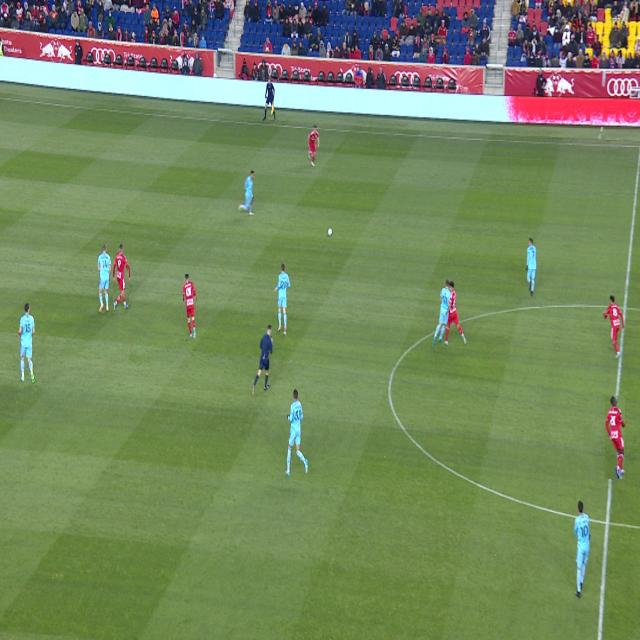football: (328, 228, 332, 236)
player: (285, 389, 308, 476), (574, 502, 591, 598), (606, 396, 625, 479), (444, 281, 467, 345), (18, 303, 35, 384), (604, 296, 625, 358), (432, 279, 451, 346), (274, 264, 291, 335), (114, 244, 129, 310), (98, 245, 111, 312), (183, 274, 196, 339), (238, 171, 254, 215), (526, 238, 536, 296), (308, 125, 320, 166)
referee: (252, 324, 273, 395)
